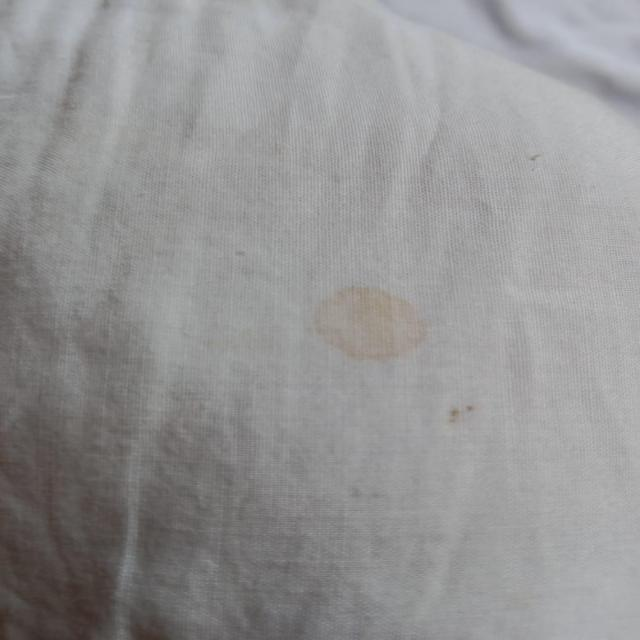stain: (299, 276, 437, 368), (438, 392, 487, 432)
